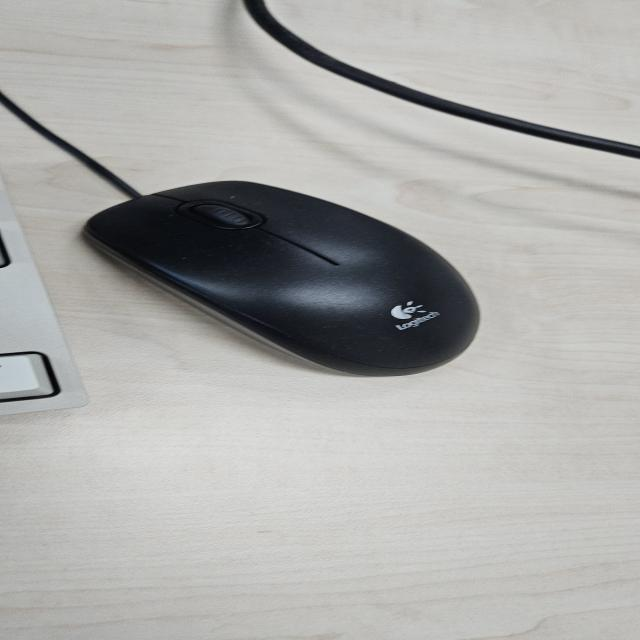Keyboard: (1, 179, 90, 416)
Mouse: (80, 179, 483, 378)
